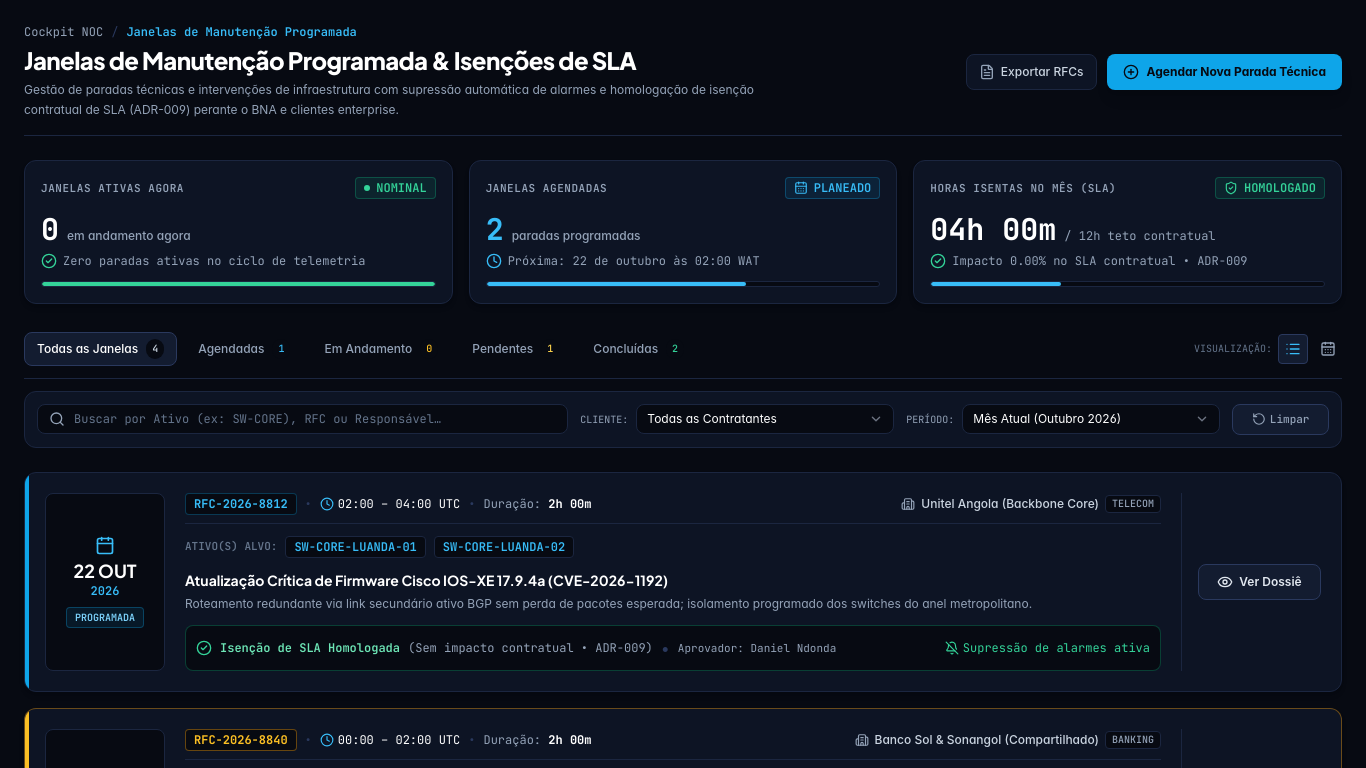
Test: Gestão de Janelas de Manutenção & SLA (Issue #218) › Painel de Janelas de Manutenção (/maintenance) › deve abrir modal de agendamento e submeter nova RFC com alerta de conflito
Later steps or results of the test are not shown.
Expected: the text "RFC-2026-8812" is shown, [185,492,297,514]
Click the button "Agendar Nova Parada Técnica" at (1224, 72), box [1107,54,1342,90]
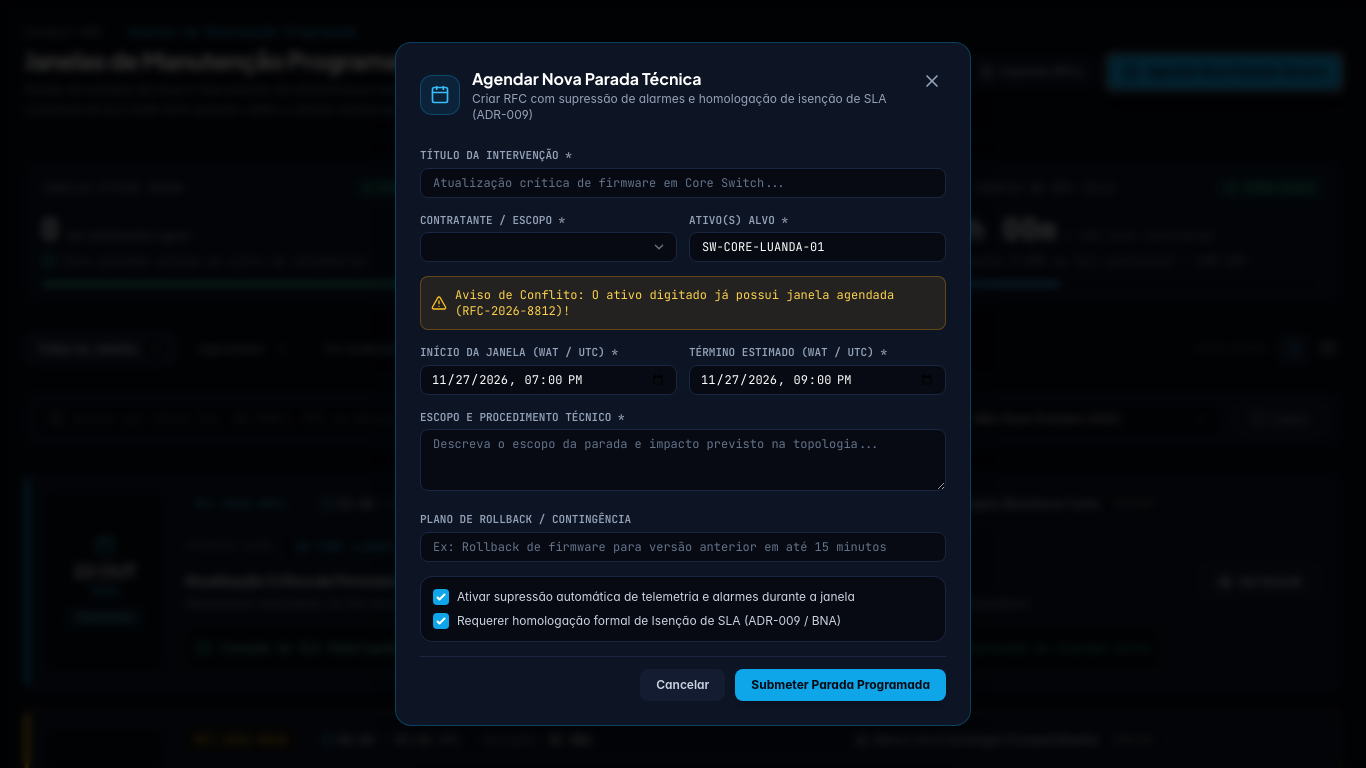
Now the dialog is shown
Now the element with test id "conflict-warning" is shown, box [420,276,946,330]
